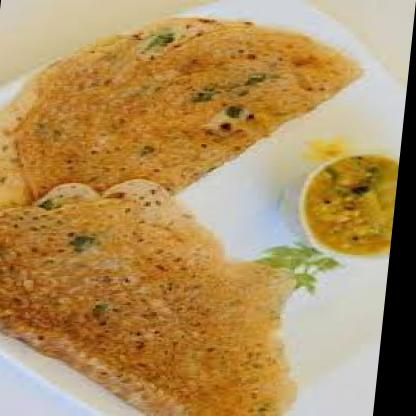dosa: (0, 178, 322, 414), (0, 16, 370, 214)
